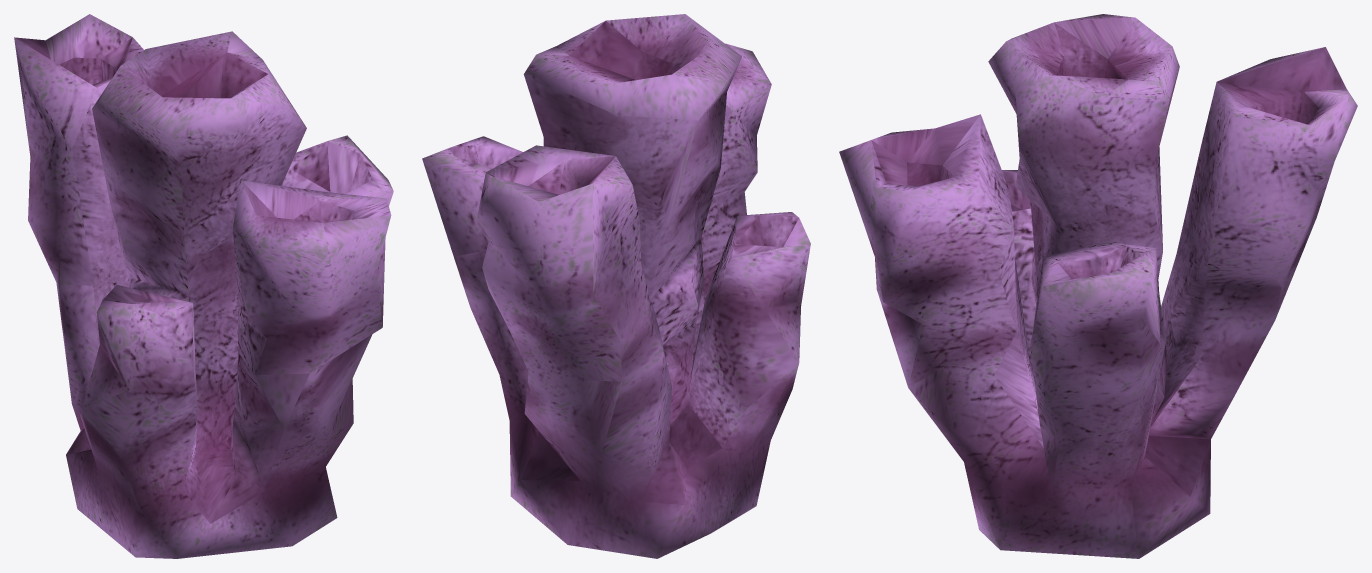
Rendered from Coral_1_低模.fbx.
3 renders of one model, left to right at view 1: azimuth 30°, elevation 25°; view 2: azimuth 150°, elevation 25°; view 3: azimuth 270°, elevation 25°, orthographic. The views are drawn at different scales.
Parts seen in each view (by area): view 1: PurpleCoral_Low; view 2: PurpleCoral_Low; view 3: PurpleCoral_Low.
Boxes of the visible parts, x1,y1,x2,y2 form: PurpleCoral_Low: (14,14,393,558); PurpleCoral_Low: (422,14,810,558); PurpleCoral_Low: (839,14,1357,558).
Size of the model in its own units: 567 by 742 by 751.
1 material, 1 textured.
